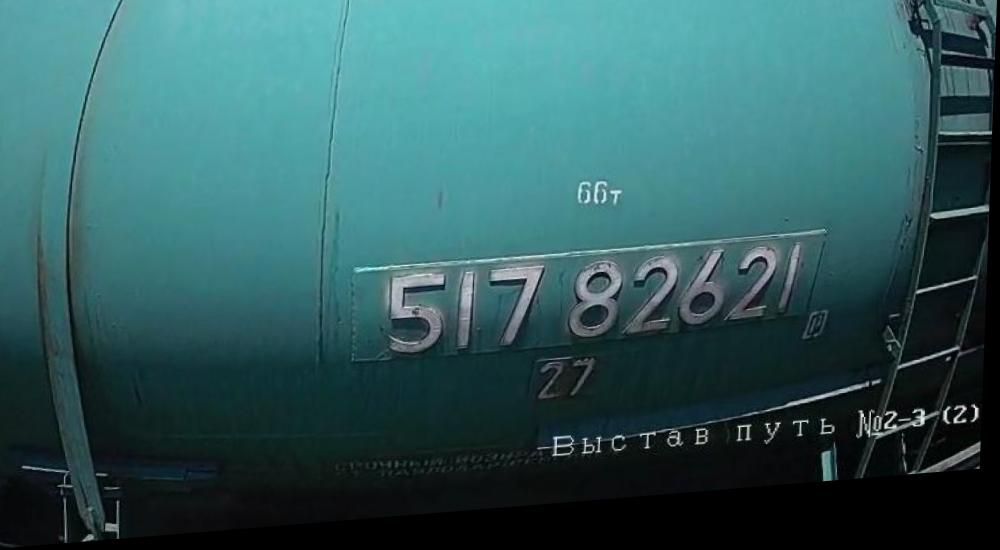Wagon-number: (374, 247, 812, 366)
